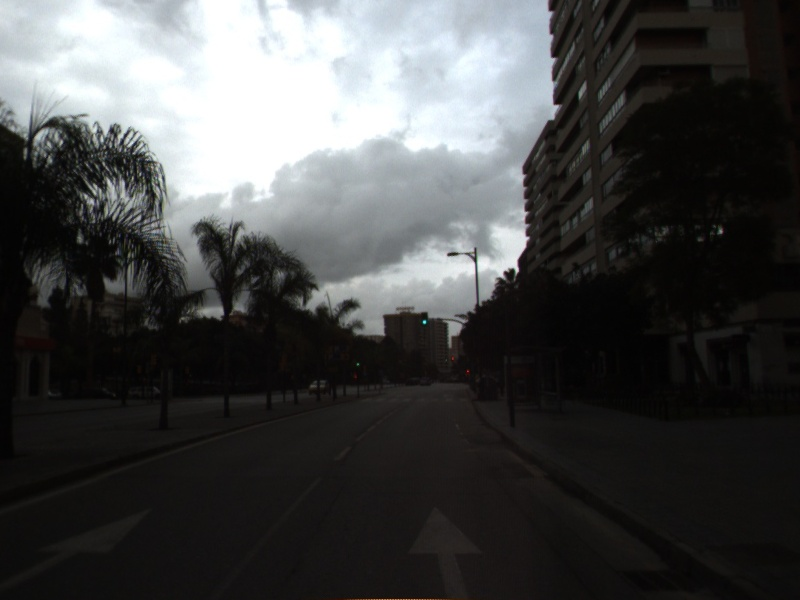STRAIGHT: (1, 505, 156, 597), (403, 502, 488, 600)
